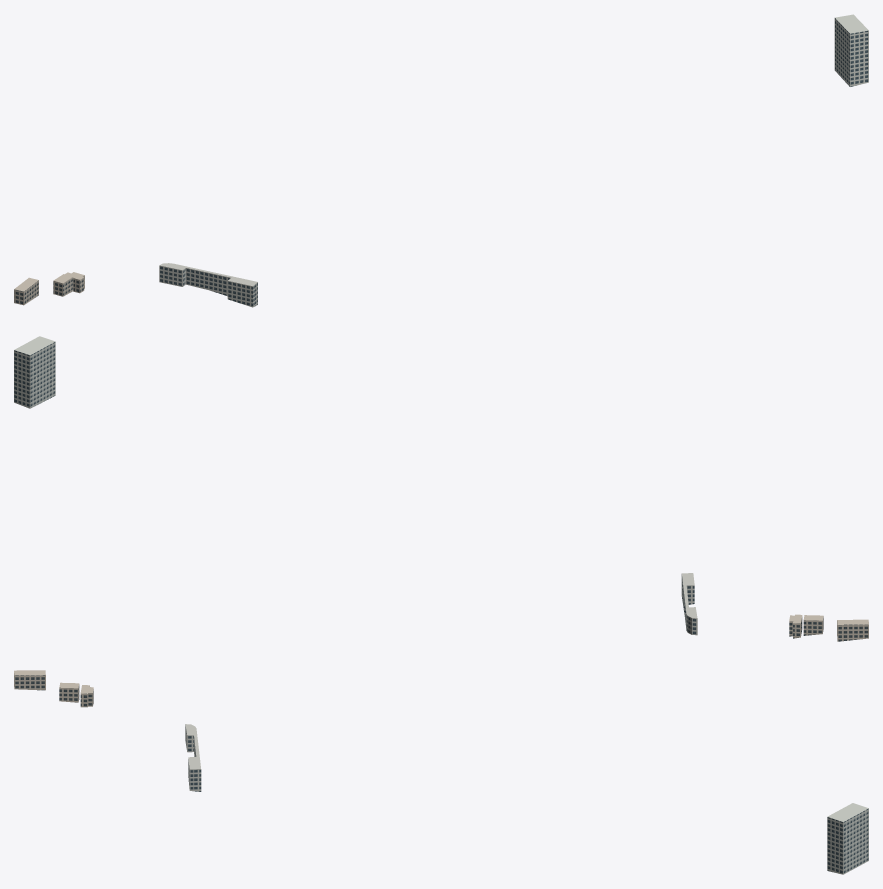
The model's file is city_-6_5.glb.
3 renders of one model, top to bottom at view 1: azimuth 30°, elevation 25°; view 2: azimuth 150°, elevation 25°; view 3: azimuth 330°, elevation 25°, orthographic.
Bounding box in the file's own units: 678 × 87.55 × 63.97.
3 materials, 3 textured.
